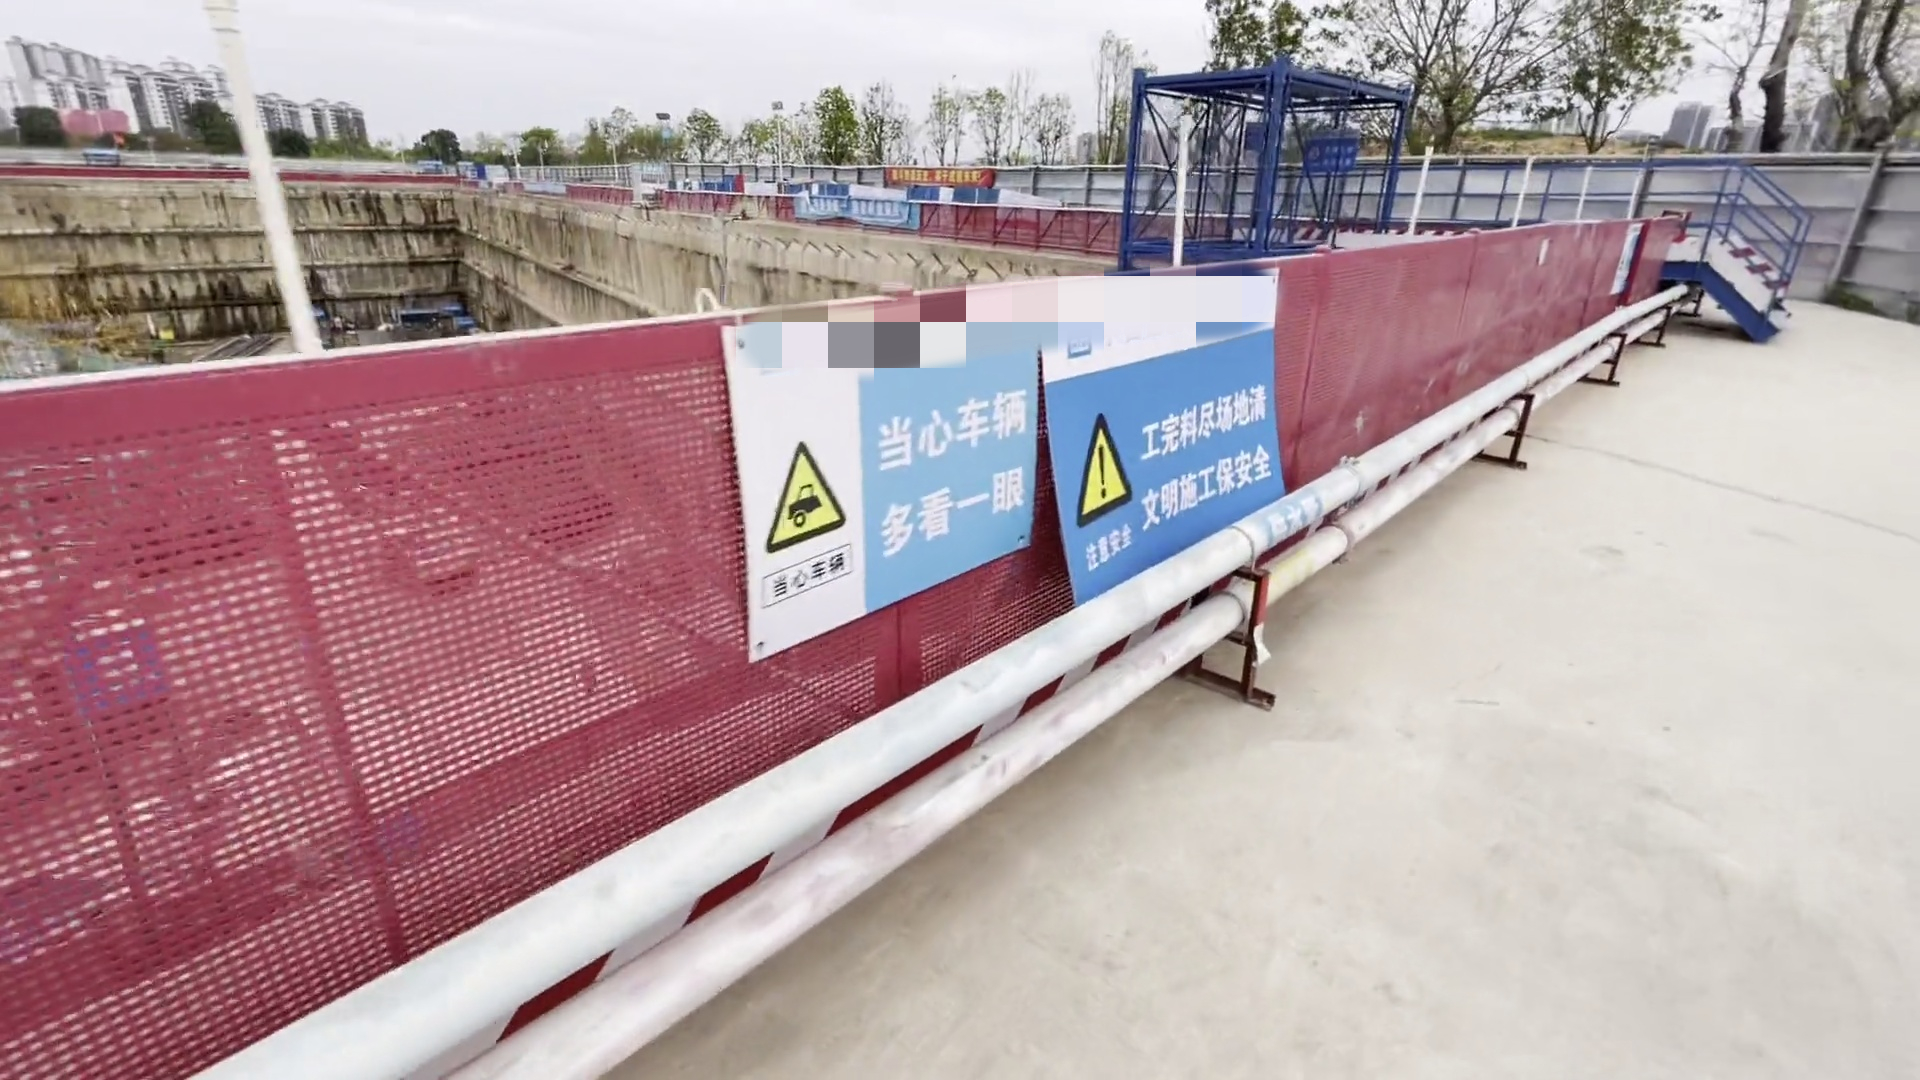fence: (1, 223, 1667, 1080)
slogan: (866, 405, 1043, 545), (1127, 397, 1298, 516), (791, 195, 913, 227), (887, 164, 986, 189)
